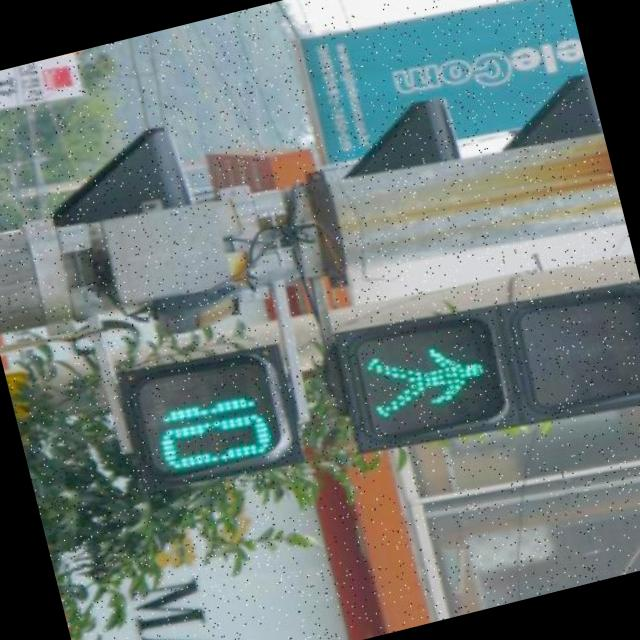green_light: (111, 276, 508, 522)
